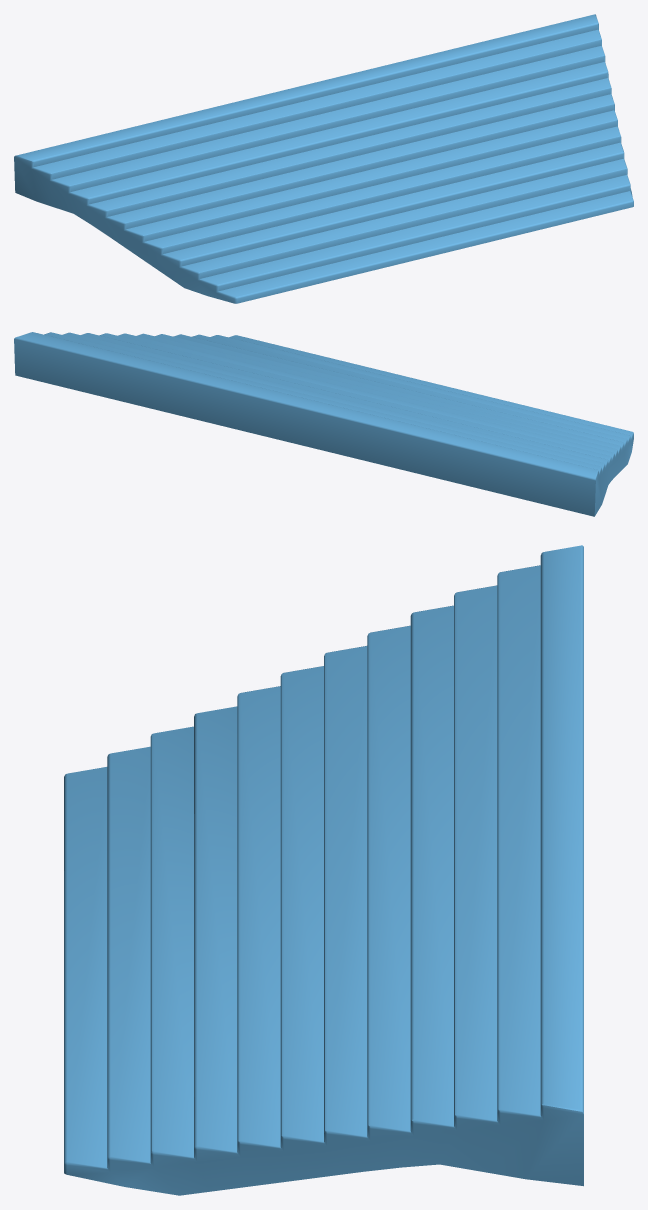
Rendered from Lb_BridgeStairs.fbx.
3 views of the same model, one above another, from view 1: azimuth 30°, elevation 25°; view 2: azimuth 150°, elevation 25°; view 3: azimuth 270°, elevation 25° (orthographic). The views are drawn at different scales.
Visible parts, largest first — view 1: Lb_BridgeStairs; view 2: Lb_BridgeStairs; view 3: Lb_BridgeStairs.
Part boxes in pixels (<box>): Lb_BridgeStairs: <box>14,14,633,303</box>; Lb_BridgeStairs: <box>14,332,633,516</box>; Lb_BridgeStairs: <box>64,545,583,1195</box>.
Bounding box in the file's own units: 897 × 112 × 347.
